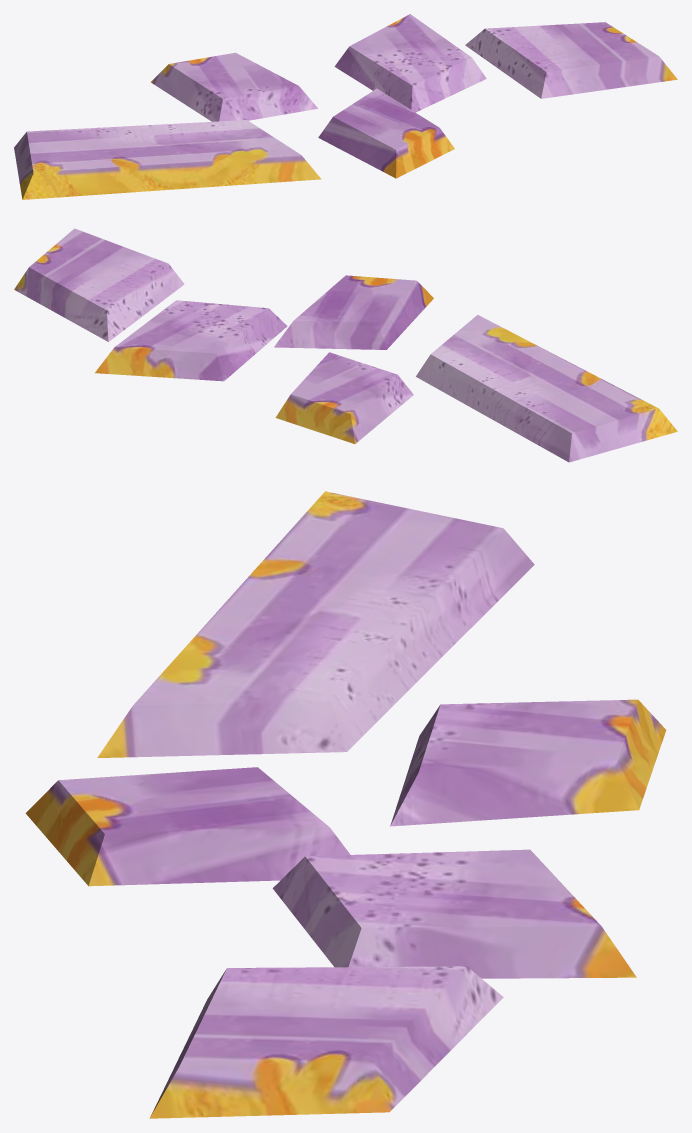
Rendered from path-02.glb.
The picture shows the model from 3 angles, top to bottom: view 1: azimuth 30°, elevation 25°; view 2: azimuth 150°, elevation 25°; view 3: azimuth 270°, elevation 25°; orthographic projection. The views are drawn at different scales.
Parts seen in each view (by area): view 1: Path_02_Art; view 2: Path_02_Art; view 3: Path_02_Art.
Boxes of the visible parts, bbox=[...] form: Path_02_Art: bbox=[14, 14, 677, 199]; Path_02_Art: bbox=[14, 228, 677, 462]; Path_02_Art: bbox=[25, 491, 666, 1118].
Size of what is drawn, in the model's own units: 6.47 by 0.2076 by 2.92.
Materials: 1 (1 with a texture image).
